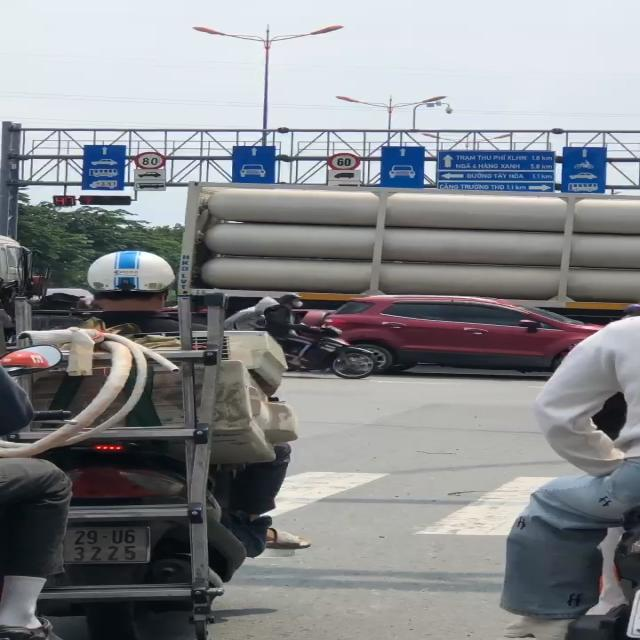Bien bao toc do toi da cho phep: (132, 149, 171, 169), (325, 152, 364, 171)
